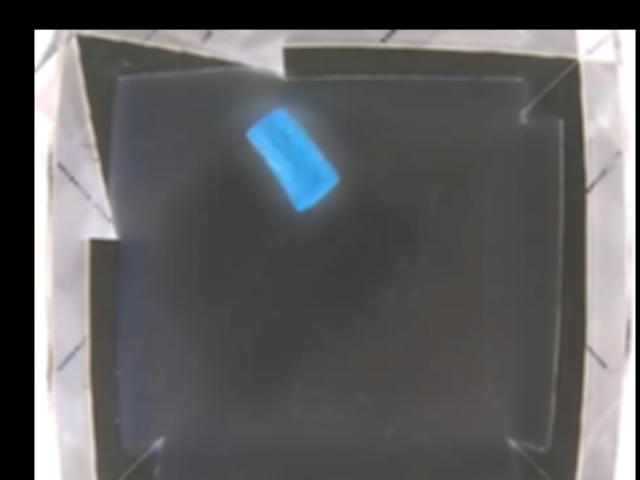Carrot: (244, 108, 340, 211)
